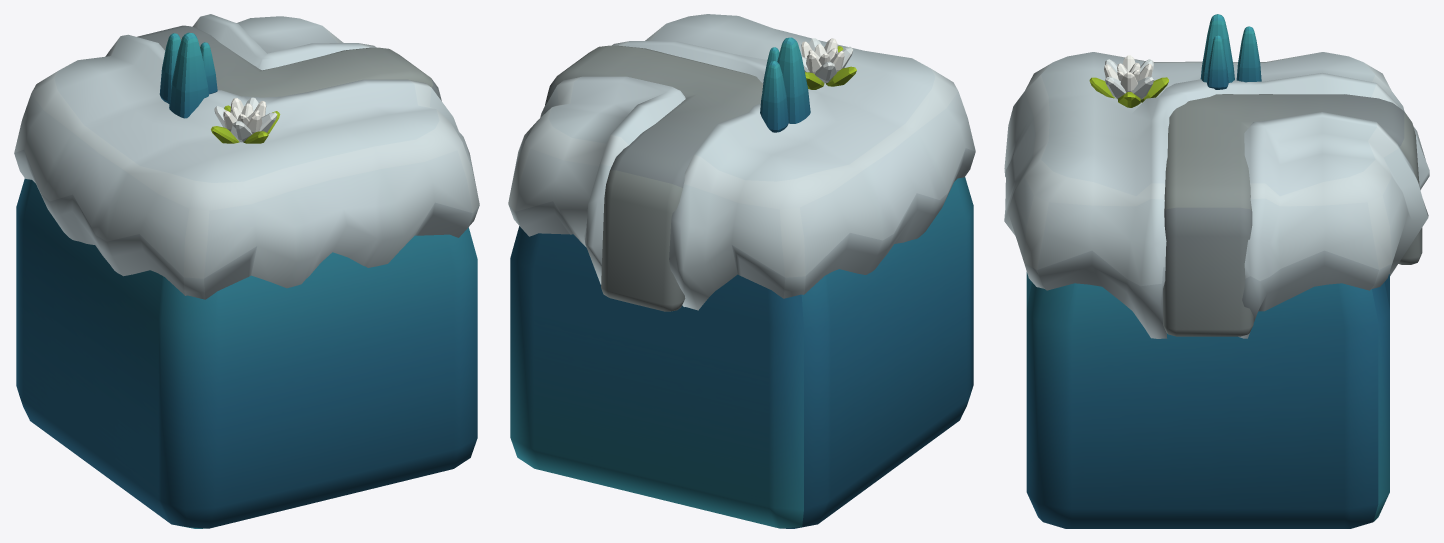
File: Winter2.fbx
3 views of the same model, side by side, from view 1: azimuth 30°, elevation 25°; view 2: azimuth 150°, elevation 25°; view 3: azimuth 270°, elevation 25° (orthographic).
Parts seen in each view (by area): view 1: Winter2, Spring_Cube2.004, Road.002, Winter_Cube_02 .001; view 2: Winter2, Spring_Cube2.004, Road.002, Winter_Cube_02 .001; view 3: Winter2, Spring_Cube2.004, Road.002, Winter_Cube_02 .001.
Boxes of the visible parts, x1=… form: Winter2: x1=16, y1=178, x2=477, y2=528; Spring_Cube2.004: x1=14, y1=14, x2=479, y2=299; Road.002: x1=137, y1=25, x2=441, y2=100; Winter_Cube_02 .001: x1=159, y1=32, x2=280, y2=143; Winter2: x1=510, y1=177, x2=973, y2=528; Spring_Cube2.004: x1=508, y1=14, x2=975, y2=310; Road.002: x1=545, y1=45, x2=763, y2=311; Winter_Cube_02 .001: x1=760, y1=37, x2=856, y2=132; Winter2: x1=1026, y1=272, x2=1389, y2=528; Spring_Cube2.004: x1=1004, y1=52, x2=1429, y2=338; Road.002: x1=1163, y1=94, x2=1422, y2=336; Winter_Cube_02 .001: x1=1089, y1=14, x2=1261, y2=107.
Bounding box in the file's own units: 116 × 130 × 117.
